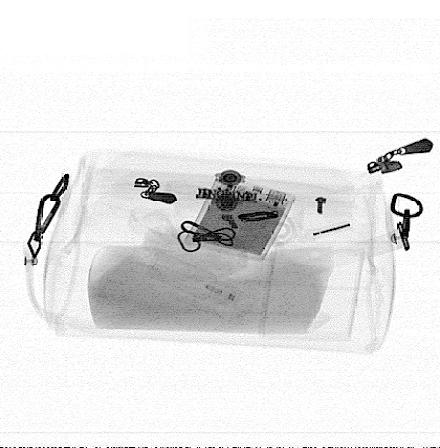Powerbank: (182, 171, 295, 262)
